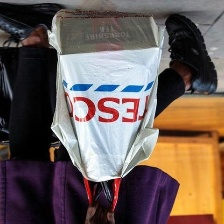plastic_bag: (46, 5, 169, 185)
